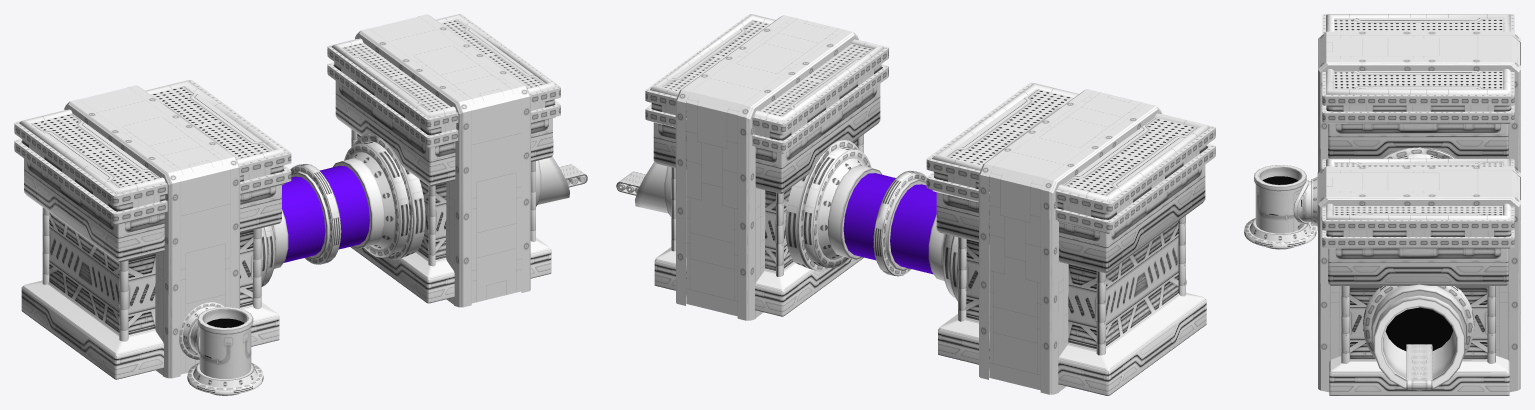
The model's file is Folder_VF.FBX.
The picture shows the model from 3 angles, left to right: view 1: azimuth 30°, elevation 25°; view 2: azimuth 150°, elevation 25°; view 3: azimuth 270°, elevation 25°; orthographic projection. The views are drawn at different scales.
Visible parts, largest first — view 1: Folder_Body, Folder_Glass; view 2: Folder_Body, Folder_Glass; view 3: Folder_Body.
Boxes of the visible parts, box(x1,y1,x2,y2) form: Folder_Body: box(14, 14, 587, 395); Folder_Glass: box(282, 165, 369, 262); Folder_Body: box(616, 14, 1215, 395); Folder_Glass: box(843, 173, 936, 274); Folder_Body: box(1244, 14, 1520, 395).
Bounding box in the file's own units: 492 × 186 × 240.
